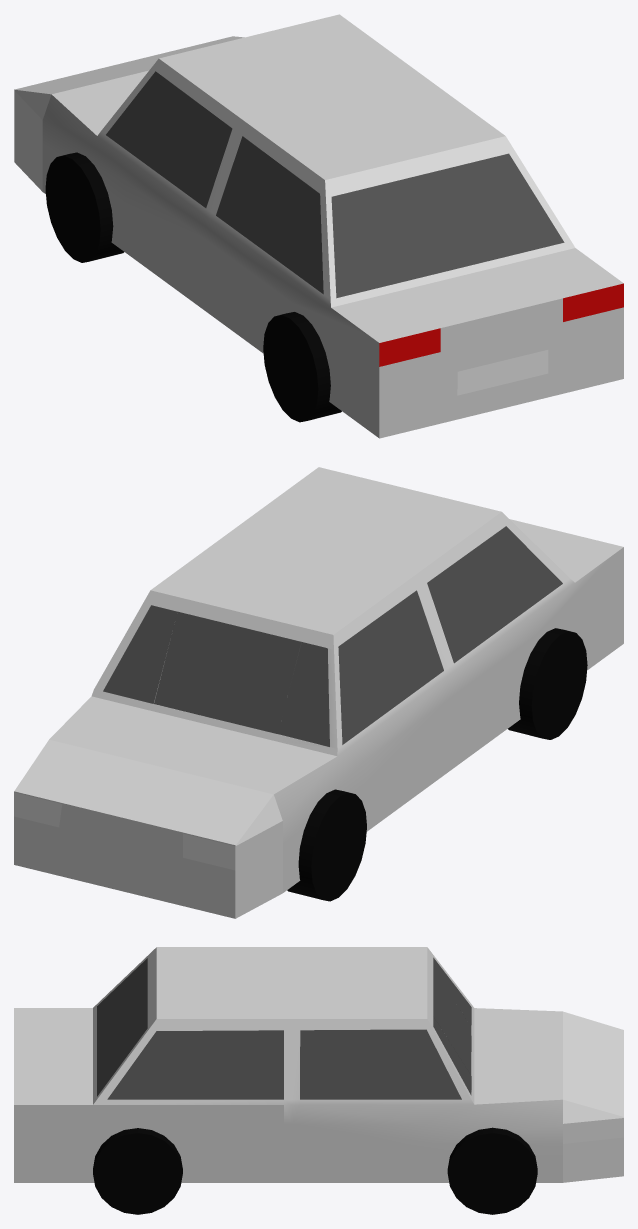
The model's file is carWhite.fbx.
3 renders of one model, top to bottom at view 1: azimuth 30°, elevation 25°; view 2: azimuth 150°, elevation 25°; view 3: azimuth 270°, elevation 25°, orthographic. The views are drawn at different scales.
Parts seen in each view (by area): view 1: pasted__pCube1, pasted__pasted__pCylinder1, pasted__pCylinder1; view 2: pasted__pCube1, pasted__pCylinder1, pasted__pasted__pCylinder1; view 3: pasted__pCube1, pasted__pasted__pasted__pCylinder1, pasted__pasted__pasted__pasted__pCylinder1.
Boxes of the visible parts, x1,y1,x2,y2 form: pasted__pCube1: (14, 14, 623, 438); pasted__pasted__pCylinder1: (45, 152, 123, 262); pasted__pCylinder1: (263, 312, 341, 422); pasted__pCube1: (14, 467, 623, 918); pasted__pCylinder1: (508, 628, 587, 739); pasted__pasted__pCylinder1: (287, 789, 366, 901); pasted__pCube1: (14, 947, 623, 1182); pasted__pasted__pasted__pCylinder1: (447, 1127, 537, 1214); pasted__pasted__pasted__pasted__pCylinder1: (93, 1128, 182, 1214).
Bounding box in the file's own units: 4.3 × 3.32 × 10.29.
